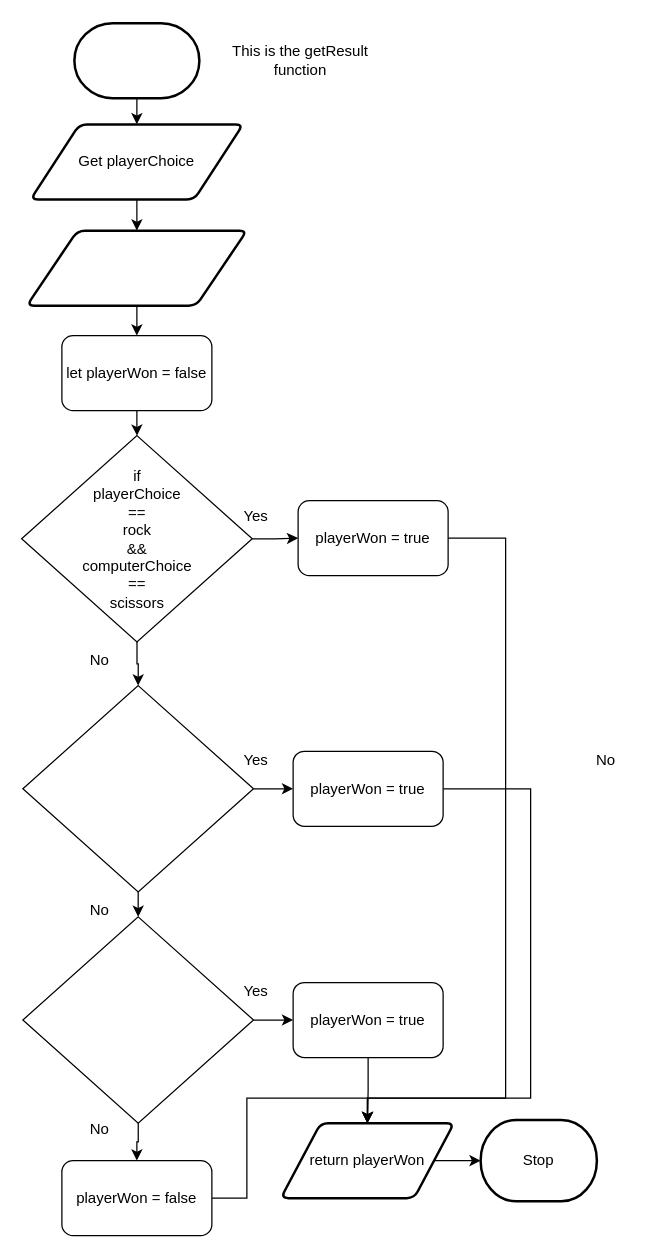
Image size: 653x1258. Some labels were removed from this diagram. Each missing label, with the centre of its shape:
"getComputerChoice" belongs at (x=136, y=267).
"if playerChoice == paper && computerChoice == rock" belongs at (x=138, y=788).
"if playerChoice == scissors && computerChoice == paper" belongs at (x=138, y=1019).
"Start" belongs at (x=136, y=60).
